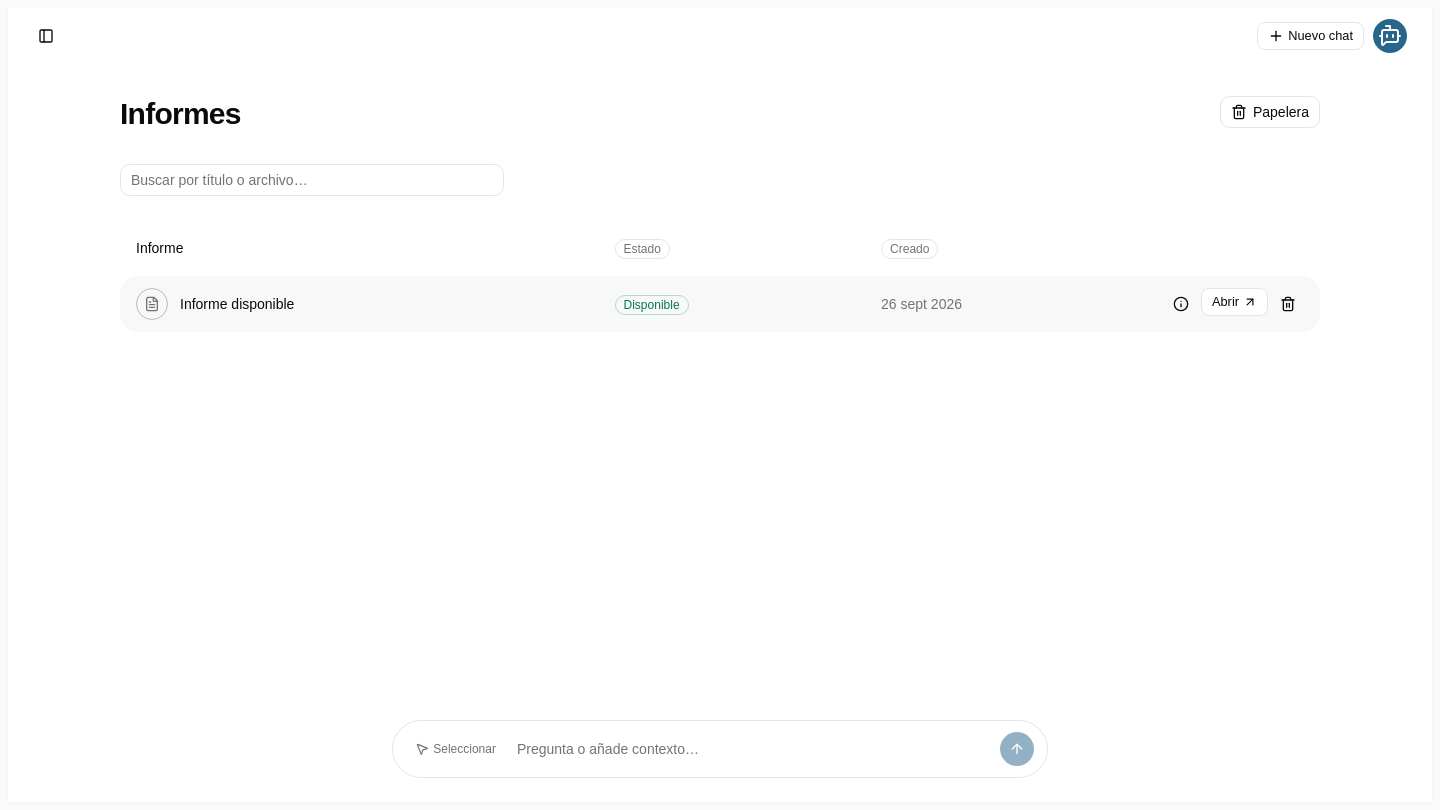
Test: opens a report directly from reports and returns with the header arrow
What coordinates should you click on to do the following:
click the link with aria-label "Abrir Informe disponible"
I would click on:
 (1234, 302)
Its box is [1201,288,1268,316].
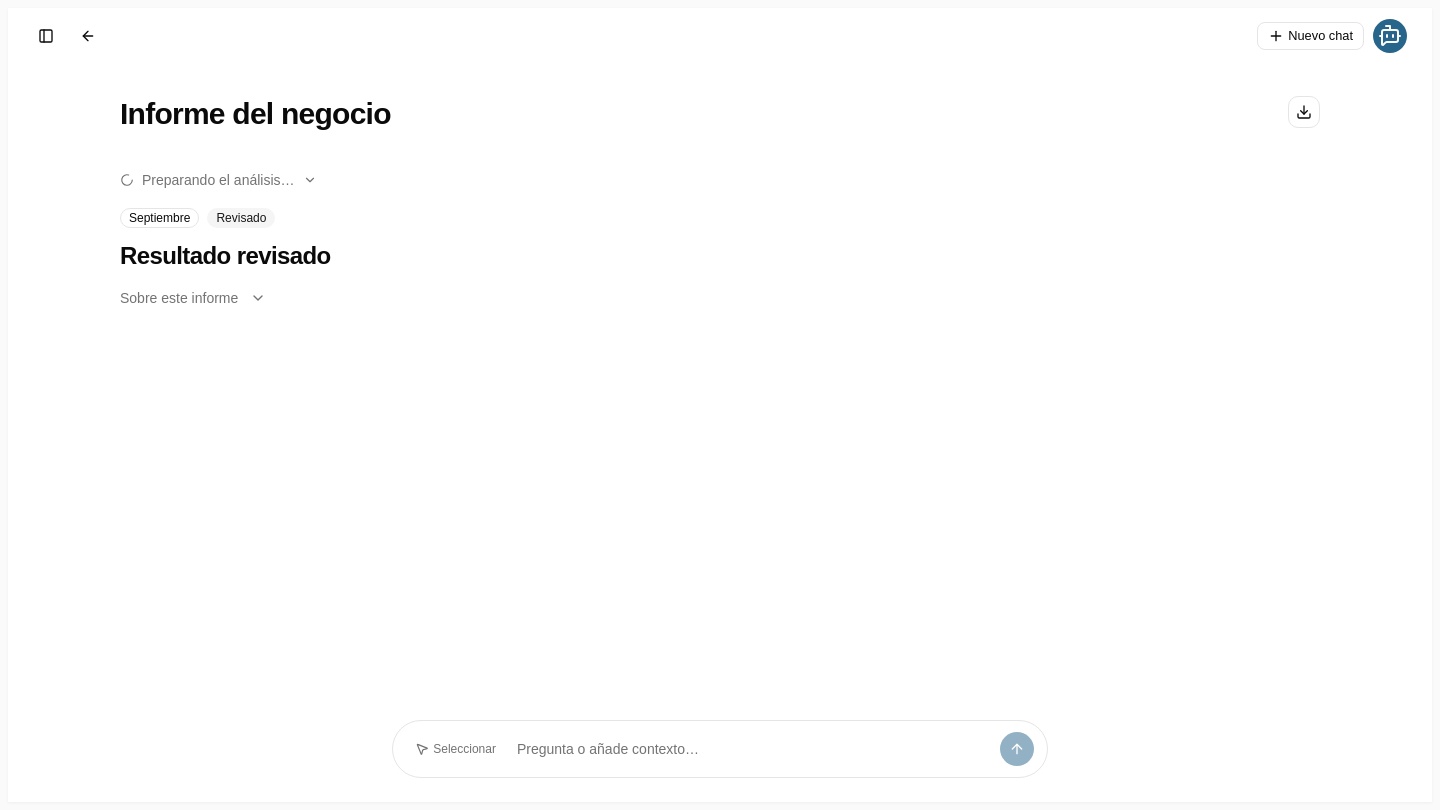
Check: the heading "Resultado revisado" is shown, box [120,242,331,269]
What coordinates should you click on to do the following:
click the link named "Volver a informes"
I would click on:
 (88, 36)
Its box is [80,28,96,44].
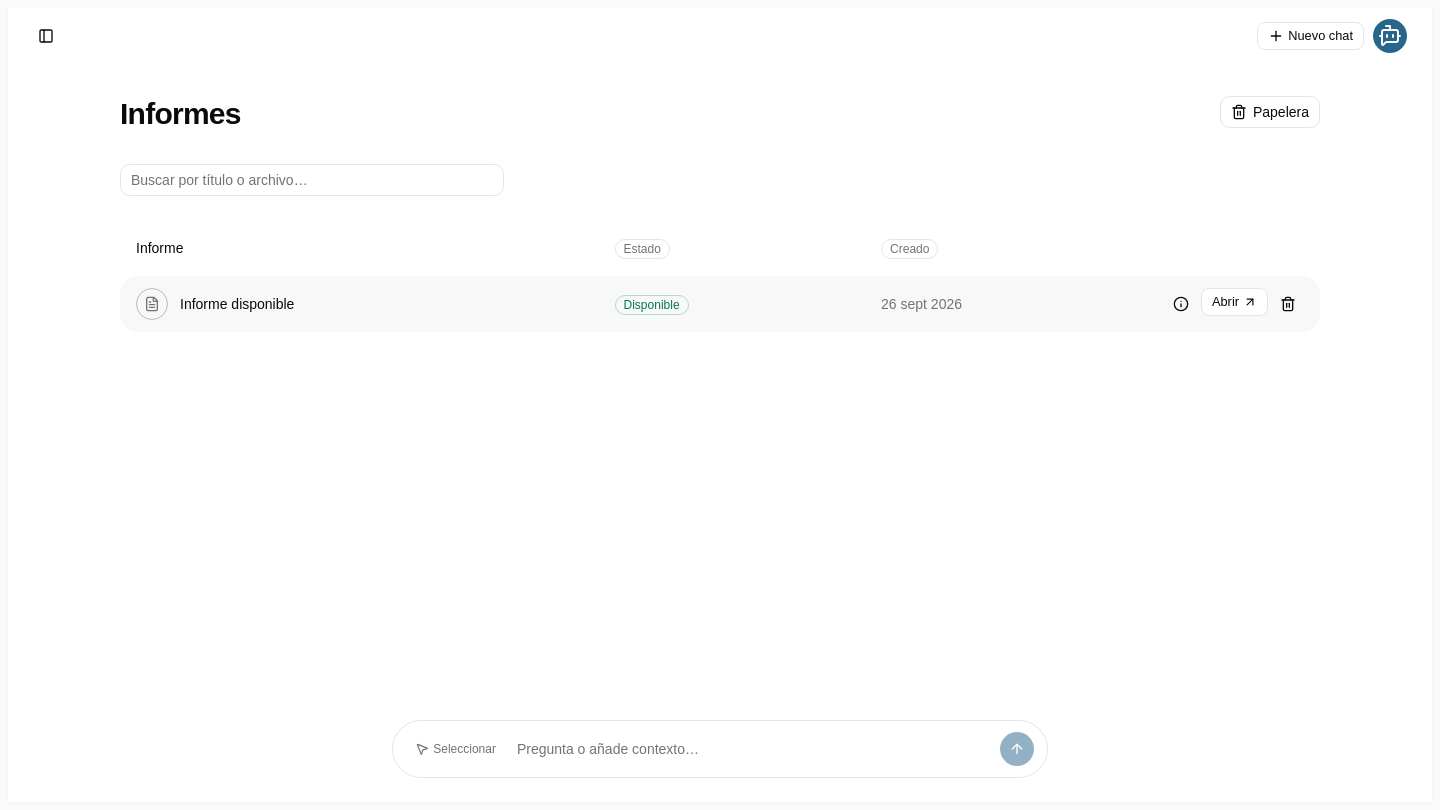
Check: the heading "Informes" is shown, box [120,96,241,132]
